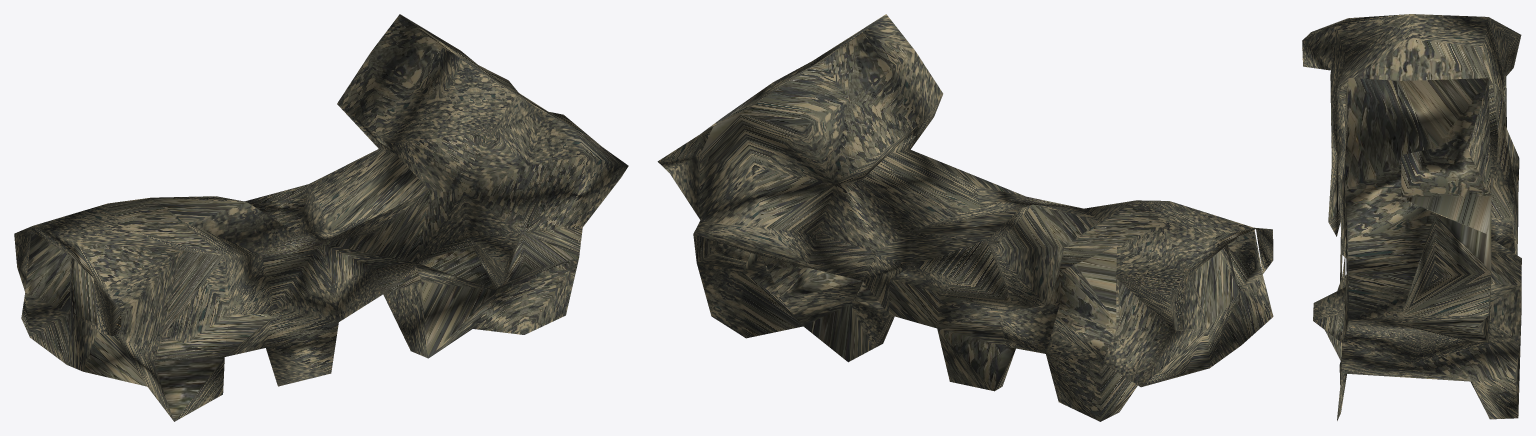
Rendered from coastal-defense-tel-meshy-ultra-v1.glb.
3 renders of one model, left to right at view 1: azimuth 30°, elevation 25°; view 2: azimuth 150°, elevation 25°; view 3: azimuth 270°, elevation 25°, orthographic. The views are drawn at different scales.
Size of the model in its own units: 1.87 by 0.9278 by 0.6026.
Materials: 1 (1 with a texture image).
